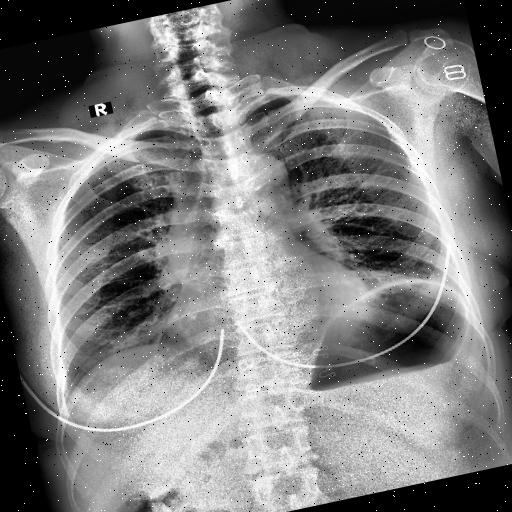0- Aortic enlargement: (207, 149, 297, 220), (223, 146, 297, 217), (233, 150, 294, 214)
9- Other lesion: (156, 188, 232, 288)
